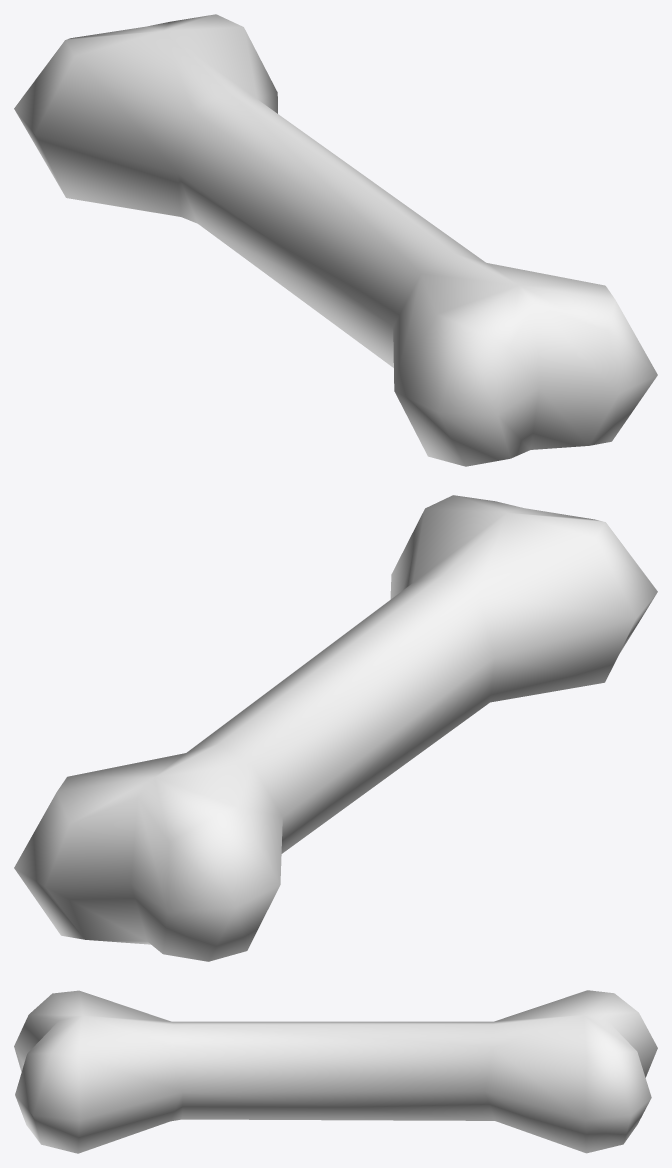
The model's file is bone.glb.
3 renders of one model, top to bottom at view 1: azimuth 30°, elevation 25°; view 2: azimuth 150°, elevation 25°; view 3: azimuth 270°, elevation 25°, orthographic. The views are drawn at different scales.
Parts seen in each view (by area): view 1: Sphere012_Material #219_0; view 2: Sphere012_Material #219_0; view 3: Sphere012_Material #219_0.
Boxes of the visible parts, box(x1,y1,x2,y2) form: Sphere012_Material #219_0: box(14, 14, 657, 466); Sphere012_Material #219_0: box(14, 495, 657, 961); Sphere012_Material #219_0: box(14, 990, 657, 1153).
Bounding box in the file's own units: 0.3148 × 0.2016 × 1.
Materials: 1 (1 with a texture image).
